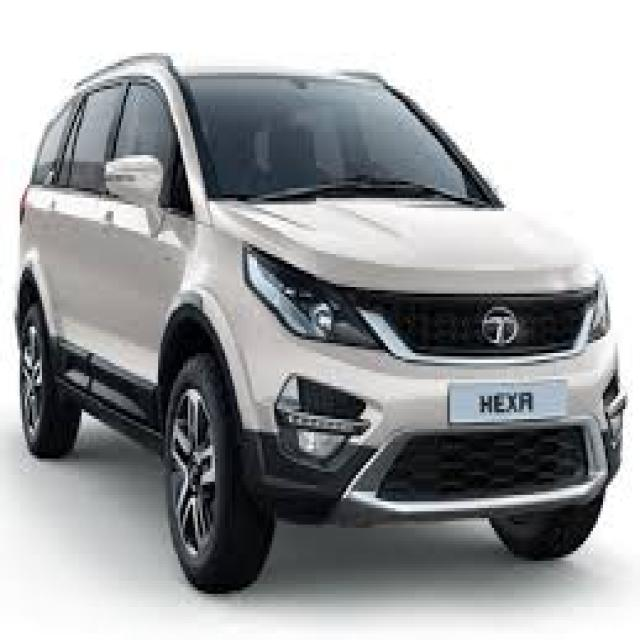SUV: (14, 50, 629, 597)
